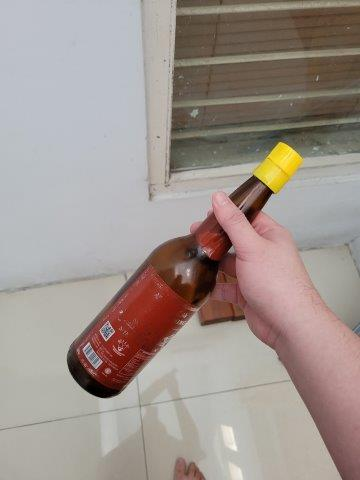botolkaca: (67, 144, 301, 400)
